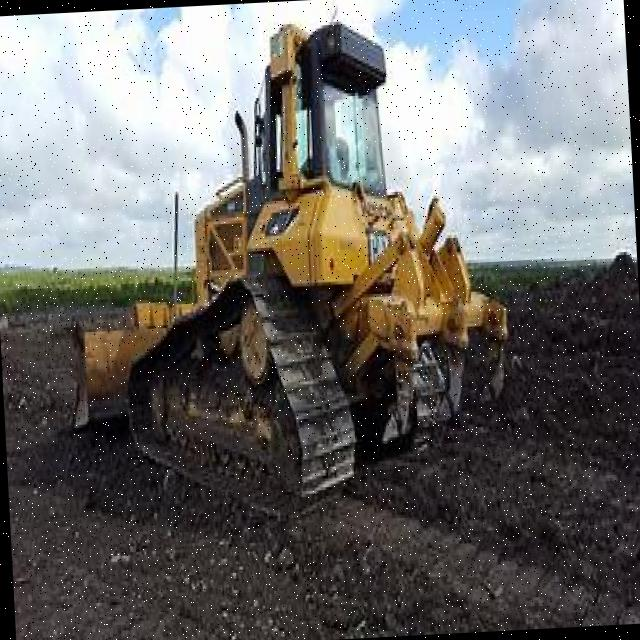Bulldozer: (43, 0, 526, 541)
